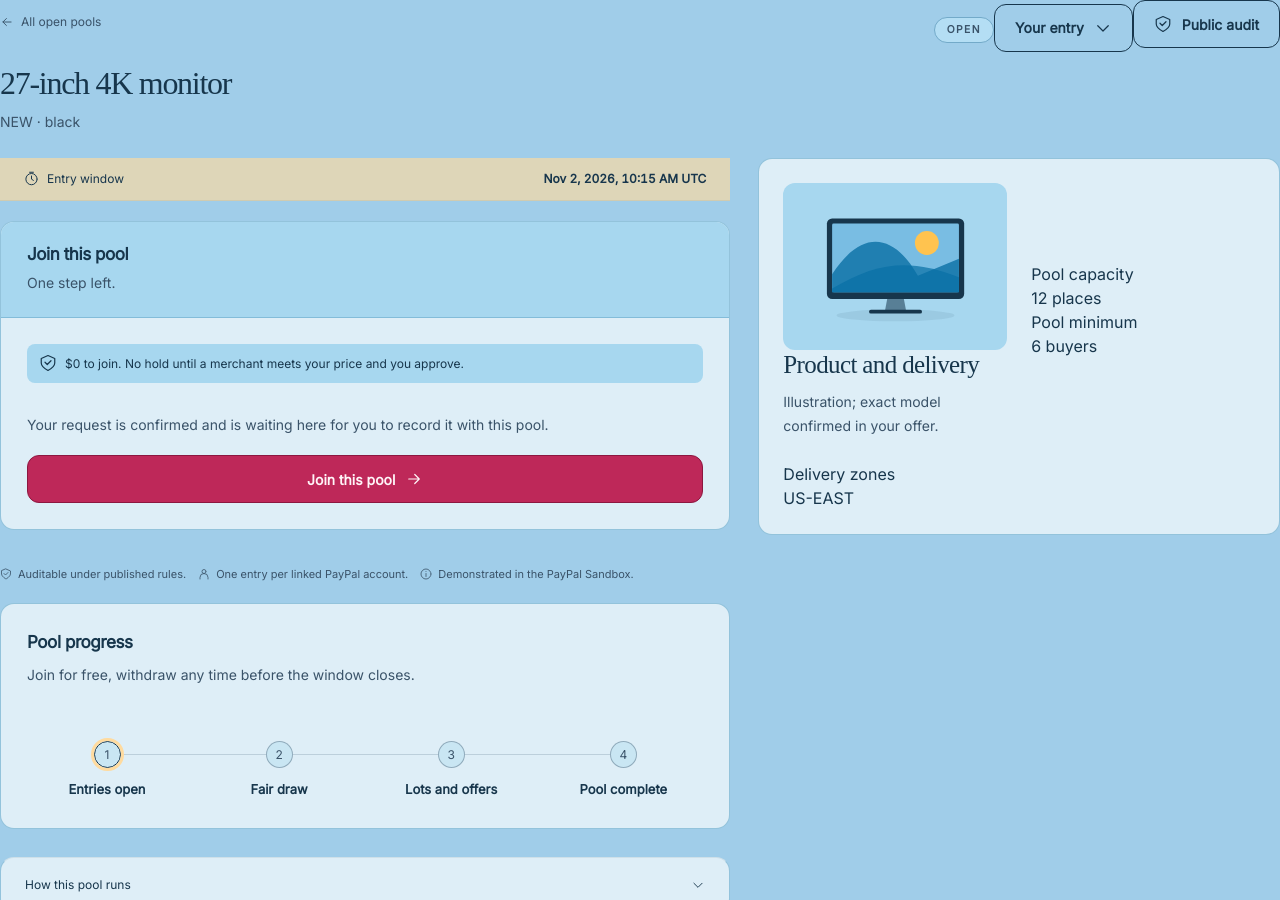
the pool lobby › joins a confirmed request without confirming a second one
Click the button "Join this pool" at (365,479), box [27,455,703,503]
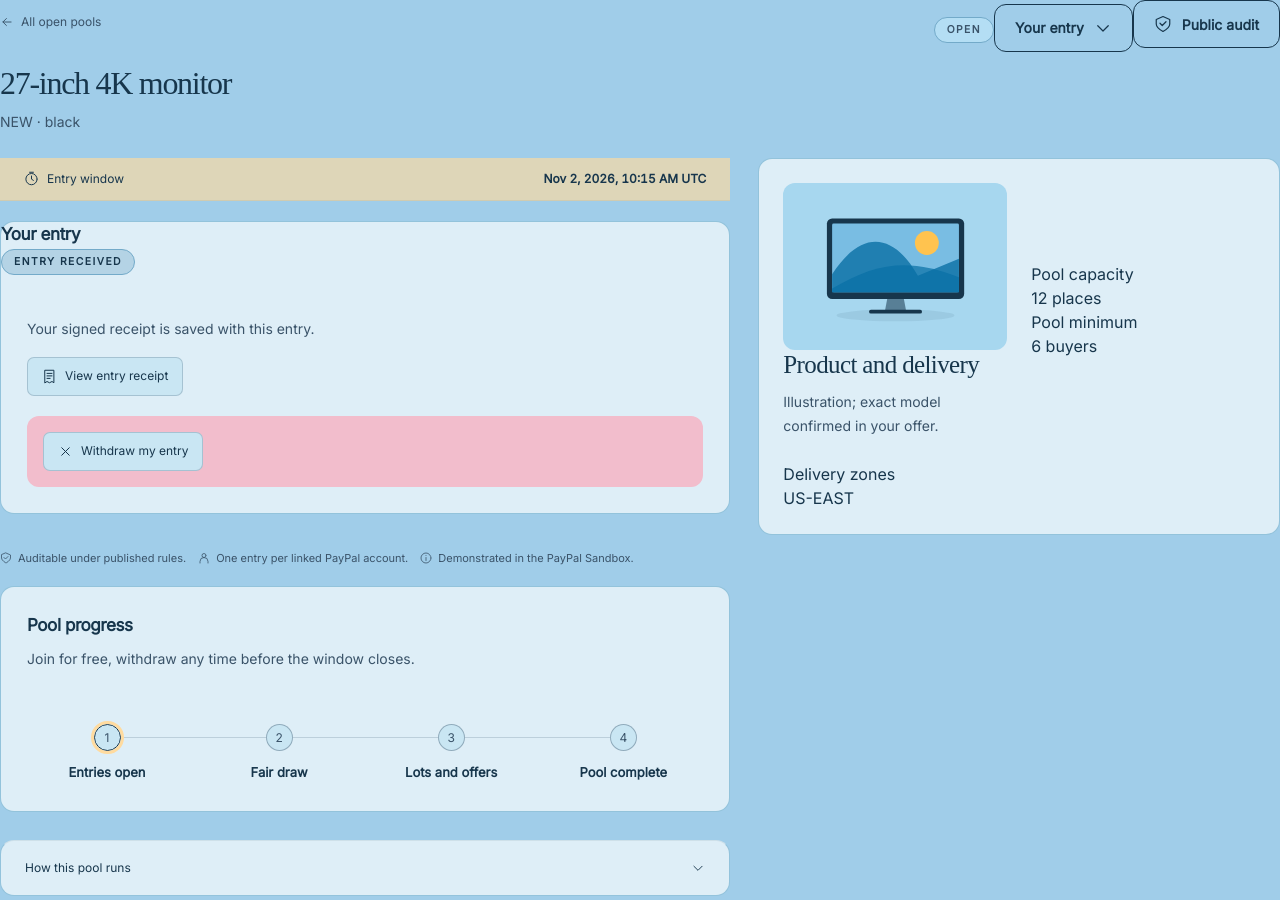
Expected: the heading "Your entry" is shown, [1,224,80,244]
Click the button "View entry receipt" at (105,376), box [27,356,183,396]
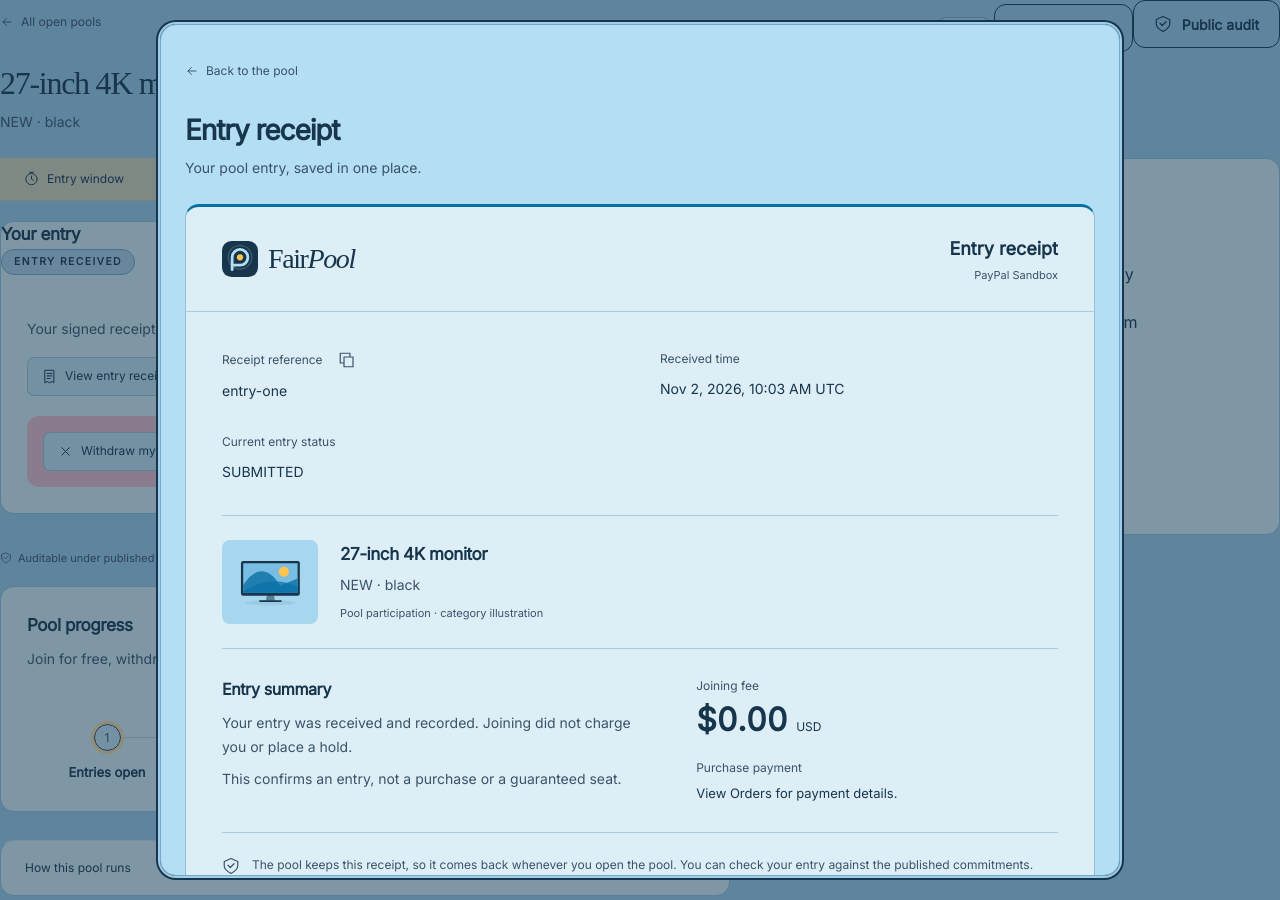
Expected: the heading "Entry receipt" is shown, [185,113,339,147]
